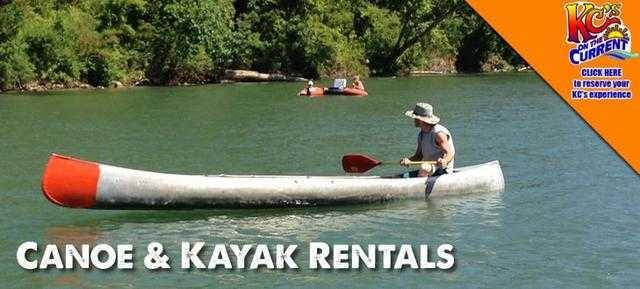kayak: (42, 152, 504, 210), (297, 81, 368, 97)
